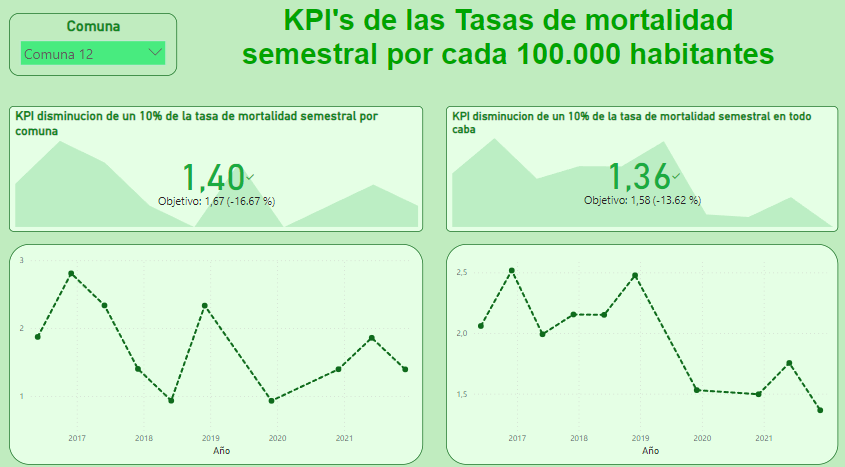

The dashboard page shown, as its layout file describes it:
{"tool":"powerbi","page":{"name":"kpi_1","canvas":[1280,720],"ordinal":4},"visuals":[{"type":"actionButton","box":[0,0,100,40],"z":0},{"type":"slicer","title":"Comuna","fields":{"Values":["tasas.comuna"]},"box":[49.8,39.5,245.9,92.2],"z":1000},{"type":"lineChart","fields":{"Category":["tasas.fecha_semestre.Variación.Jerarquía de fechas.Año","tasas.fecha_semestre.Variación.Jerarquía de fechas.Mes"],"Y":["Avg(tasas.tasa_Total)"]},"box":[689.3,377.6,573.7,323.4],"z":2000},{"type":"kpi","title":"KPI disminucion de un 10% de la tasa de mortalidad semestral en todo caba","fields":{"TrendLine":["tasas.fecha_semestre"],"Indicator":["Avg(tasas.tasa_Total)"],"Goal":["Avg(tasas.objetivo_total)"]},"box":[699.5,175.6,542.9,184.4],"z":3000},{"type":"lineChart","fields":{"Category":["tasas.fecha_semestre.Variación.Jerarquía de fechas.Año","tasas.fecha_semestre.Variación.Jerarquía de fechas.Mes"],"Y":["Avg(tasas.tasa_comunal)"]},"box":[49.8,377.6,605.9,323.4],"z":4000},{"type":"kpi","title":"KPI disminucion de un 10% de la tasa de mortalidad semestral por comuna","fields":{"TrendLine":["tasas.fecha_semestre"],"Indicator":["Avg(tasas.tasa_comunal)"],"Goal":["Avg(tasas.objetivo_comunal)"]},"box":[49.8,175.6,605.9,184.4],"z":5000},{"type":"textbox","box":[352.7,20.5,856.1,128.8],"z":6000}]}

Visuals, with their boxes in screenshot pixels (x1, y1, x2, y2), scaled from the page's 1280x720 canvas onto the 845x467 screenshot:
actionButton: [left=0, top=0, right=66, bottom=26]
"Comuna" slicer: [left=33, top=26, right=195, bottom=85]
lineChart - tasas.fecha_semestre.Variación.Jerarquía de fechas.Año x tasas.fecha_semestre.Variación.Jerarquía de fechas.Mes: [left=455, top=245, right=834, bottom=455]
"KPI disminucion de un 10% de la tasa de mortalidad semestral en todo caba" kpi: [left=462, top=114, right=820, bottom=234]
lineChart - tasas.fecha_semestre.Variación.Jerarquía de fechas.Año x tasas.fecha_semestre.Variación.Jerarquía de fechas.Mes: [left=33, top=245, right=433, bottom=455]
"KPI disminucion de un 10% de la tasa de mortalidad semestral por comuna" kpi: [left=33, top=114, right=433, bottom=234]
textbox: [left=233, top=13, right=798, bottom=97]
